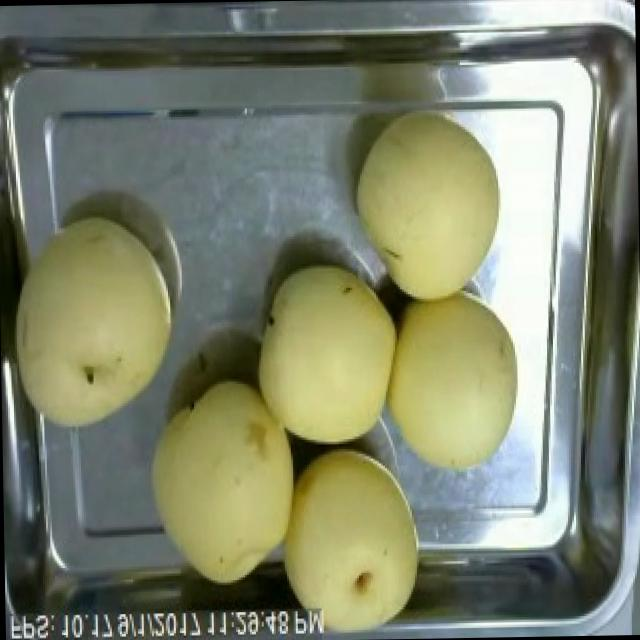Fruit: (0, 206, 188, 442), (135, 370, 303, 599), (344, 105, 512, 312), (243, 254, 407, 461), (273, 440, 432, 638), (378, 284, 528, 481)
